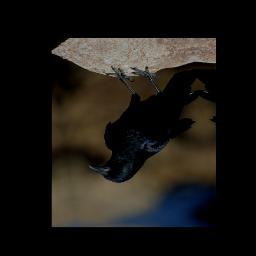Crow: (73, 57, 210, 187)
